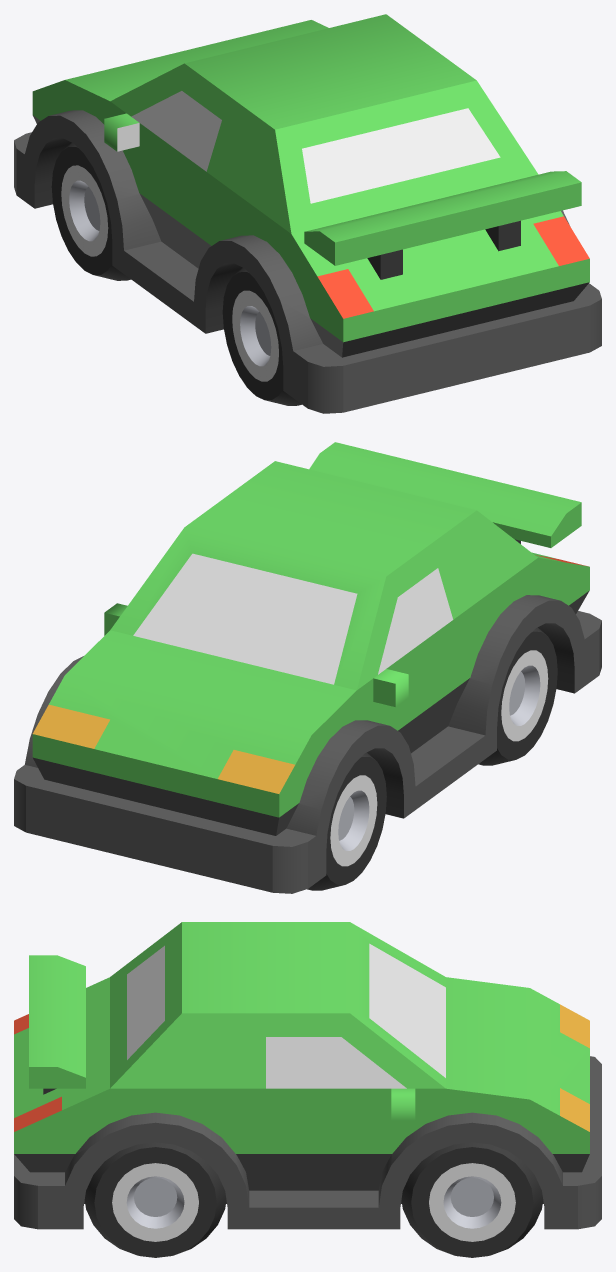
Rendered from sedanSportsGreen.glb.
3 views of the same model, one above another, from view 1: azimuth 30°, elevation 25°; view 2: azimuth 150°, elevation 25°; view 3: azimuth 270°, elevation 25° (orthographic). The views are drawn at different scales.
Parts seen in each view (by area): view 1: body, spoiler, wheel_backLeft, wheel_frontLeft; view 2: body, spoiler, wheel_frontLeft, wheel_backLeft; view 3: body, wheel_backRight, wheel_frontRight, spoiler.
Part boxes in pixels (<box>): body: <box>14,14,601,413</box>; spoiler: <box>304,171,581,279</box>; wheel_backLeft: <box>222,267,301,405</box>; wheel_frontLeft: <box>51,142,130,280</box>; body: <box>14,461,601,893</box>; spoiler: <box>309,442,581,547</box>; wheel_frontLeft: <box>307,752,386,890</box>; wheel_backLeft: <box>478,627,557,765</box>; body: <box>14,922,601,1229</box>; wheel_backRight: <box>84,1142,226,1257</box>; wheel_frontRight: <box>401,1142,543,1257</box>; spoiler: <box>29,955,85,1094</box>.
Size of the model in its own units: 1.3 by 1.1 by 2.45.
